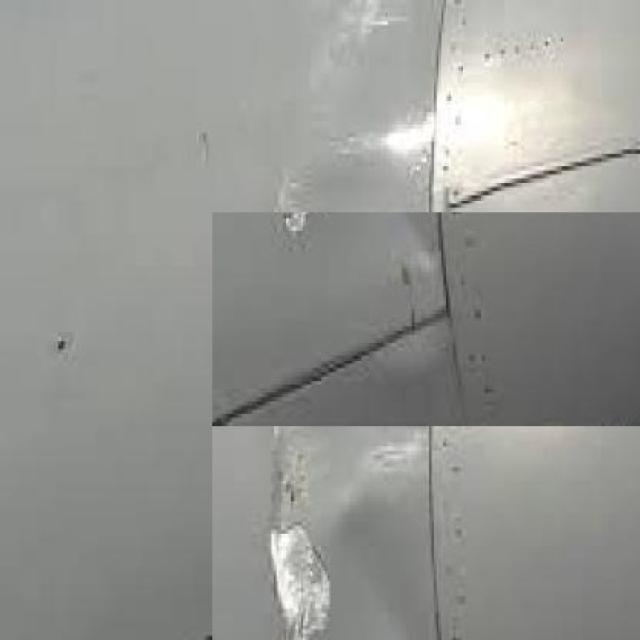dent: (291, 7, 434, 175), (343, 462, 436, 640), (264, 416, 337, 640)
